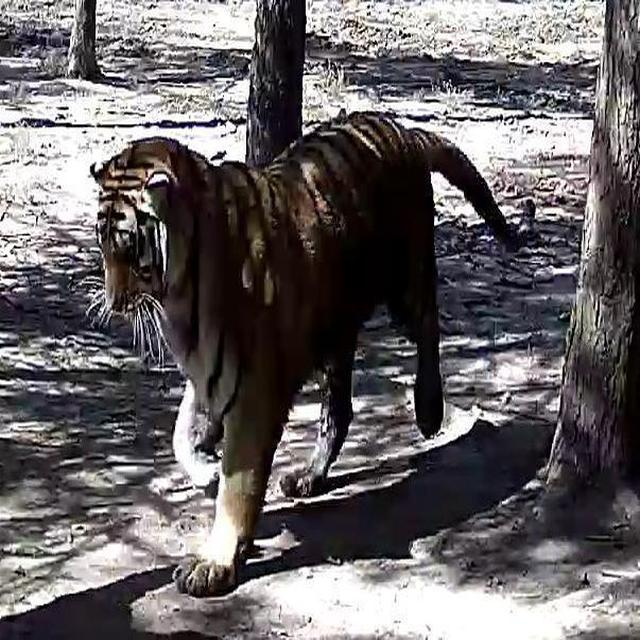tiger: (72, 96, 554, 597)
